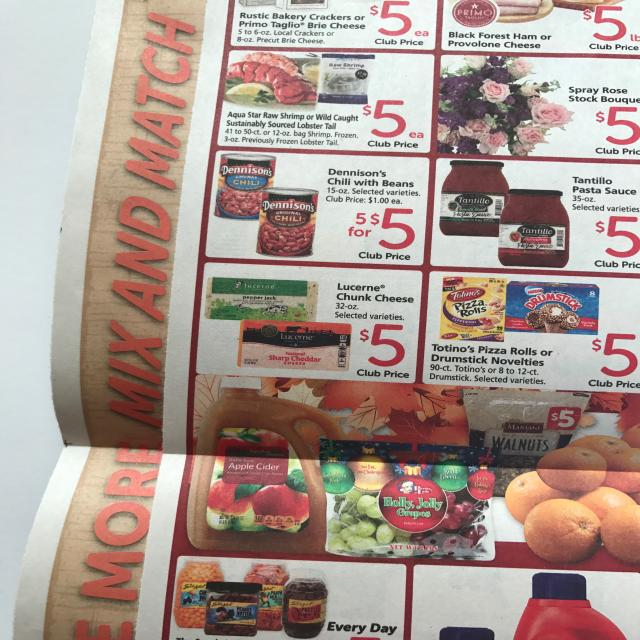paper: (6, 2, 640, 640)
